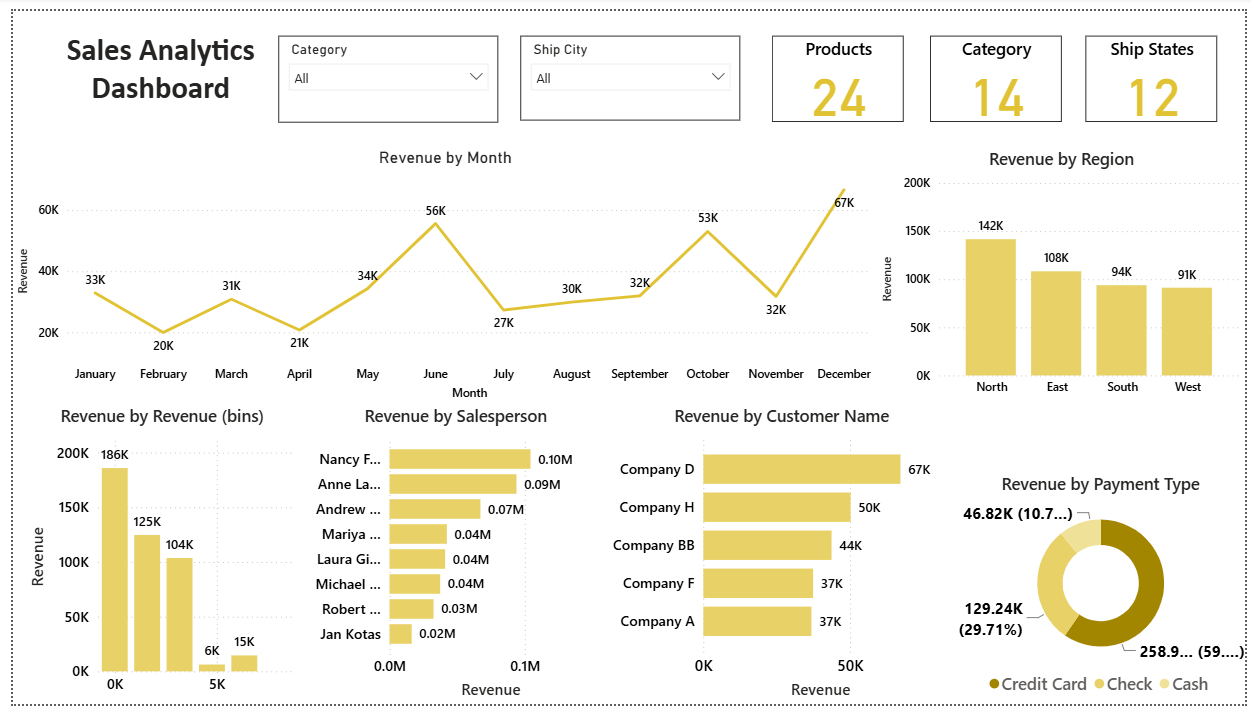

The page's visual inventory and layout, read from the dashboard file:
{"tool":"powerbi","page":{"name":"Sales Analytics","canvas":[1280,720],"ordinal":0},"visuals":[{"type":"textbox","box":[29.3,15.9,246.9,111.2],"z":0},{"type":"donutChart","title":"Revenue by Payment Type","fields":{"Category":["orders.Payment Type"],"Y":["Sum(orders.Revenue)"]},"box":[962,408.3,317.8,254.3],"z":1000},{"type":"clusteredBarChart","title":"Revenue by Salesperson","fields":{"Category":["orders.Salesperson"],"Y":["Sum(orders.Revenue)"]},"box":[654,408.3,325.2,264],"z":2000},{"type":"clusteredBarChart","title":"Revenue by Customer Name","fields":{"Category":["orders.Customer Name"],"Y":["Sum(orders.Revenue)"]},"box":[354.5,408.3,299.5,264],"z":3000},{"type":"clusteredColumnChart","title":"Revenue by Region","fields":{"Category":["orders.Region"],"Y":["Sum(orders.Revenue)"]},"box":[925.4,141.8,354.5,227.4],"z":4000},{"type":"lineChart","title":"Revenue by Month","fields":{"Category":["orders.Order Date.Variation.Date Hierarchy.Month"],"Y":["Sum(orders.Revenue)"]},"box":[34.2,141.8,864.2,237.1],"z":5000},{"type":"clusteredColumnChart","title":"Revenue by Revenue (bins)","fields":{"Category":["orders.Revenue (bins)"],"Y":["Sum(orders.Revenue)"]},"box":[12.2,408.3,328.8,254.3],"z":6000},{"type":"slicer","fields":{"Values":["orders.Category"]},"box":[276.3,25.7,228.6,90.5],"z":7000},{"type":"slicer","fields":{"Values":["orders.Ship City"]},"box":[526.9,25.7,228.6,88],"z":8000},{"type":"card","title":"Products","fields":{"Values":["Count(orders.Product Name)"]},"box":[788.5,25.7,136.9,89.2],"z":9000},{"type":"card","title":"Category","fields":{"Values":["Count(orders.Category)"]},"box":[953.5,25.7,136.9,89.2],"z":10000},{"type":"card","title":"Ship States","fields":{"Values":["Count(orders.Ship State)"]},"box":[1113.6,25.7,136.9,89.2],"z":11000},{"type":"image","box":[46.5,33,189.5,189.5],"z":11001}]}

Visuals, with their boxes in screenshot pixels (x1, y1, x2, y2), scaled from the page's 1280x720 canvas onto the 1251x714 screenshot:
textbox: pyautogui.locateOnScreen(29, 16, 270, 126)
"Revenue by Payment Type" donutChart: pyautogui.locateOnScreen(940, 405, 1250, 657)
"Revenue by Salesperson" clusteredBarChart: pyautogui.locateOnScreen(639, 405, 957, 667)
"Revenue by Customer Name" clusteredBarChart: pyautogui.locateOnScreen(346, 405, 639, 667)
"Revenue by Region" clusteredColumnChart: pyautogui.locateOnScreen(904, 141, 1250, 366)
"Revenue by Month" lineChart: pyautogui.locateOnScreen(33, 141, 878, 376)
"Revenue by Revenue (bins)" clusteredColumnChart: pyautogui.locateOnScreen(12, 405, 333, 657)
slicer - orders.Category: pyautogui.locateOnScreen(270, 25, 493, 115)
slicer - orders.Ship City: pyautogui.locateOnScreen(515, 25, 738, 113)
"Products" card: pyautogui.locateOnScreen(771, 25, 904, 114)
"Category" card: pyautogui.locateOnScreen(932, 25, 1066, 114)
"Ship States" card: pyautogui.locateOnScreen(1088, 25, 1222, 114)
image: pyautogui.locateOnScreen(45, 33, 231, 221)
